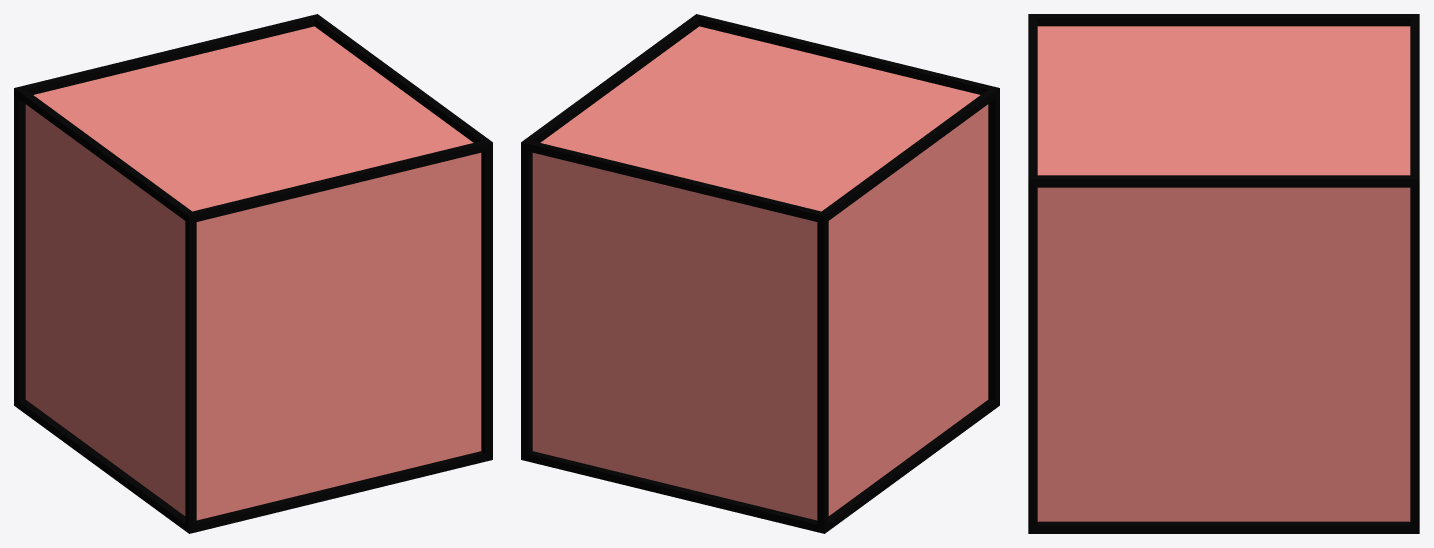
File: redOutline.fbx
3 renders of one model, left to right at view 1: azimuth 30°, elevation 25°; view 2: azimuth 150°, elevation 25°; view 3: azimuth 270°, elevation 25°, orthographic. The views are drawn at different scales.
Parts seen in each view (by area): view 1: redOutline; view 2: redOutline; view 3: redOutline.
Part boxes in pixels (x1,y1,x2,y2): redOutline: [14, 14, 492, 533]; redOutline: [521, 14, 999, 533]; redOutline: [1028, 14, 1419, 533].
Bounding box in the file's own units: 1.05 × 1.05 × 1.05.
